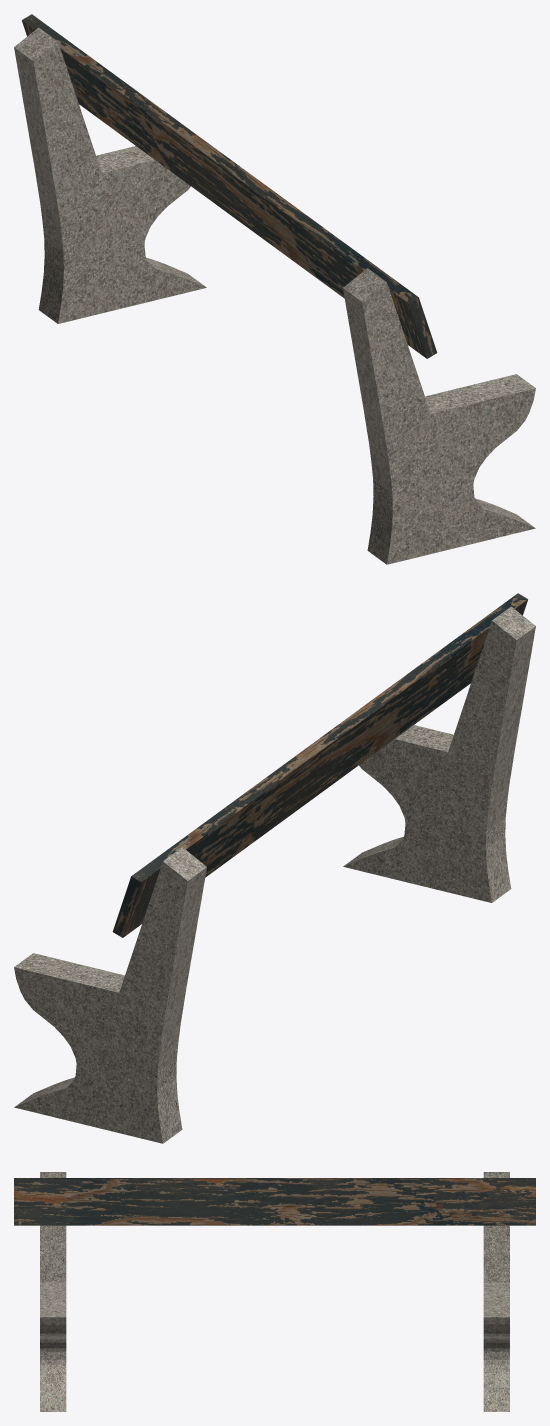
The model's file is Lavicka_Beton_Stara_Special_001.fbx.
3 views of the same model, one above another, from view 1: azimuth 30°, elevation 25°; view 2: azimuth 150°, elevation 25°; view 3: azimuth 270°, elevation 25° (orthographic). The views are drawn at different scales.
Parts seen in each view (by area): view 1: Lavicka_Beton_Stara_Special_001; view 2: Lavicka_Beton_Stara_Special_001; view 3: Lavicka_Beton_Stara_Special_001.
Boxes of the visible parts, x1,y1,x2,y2 form: Lavicka_Beton_Stara_Special_001: [14, 14, 535, 564]; Lavicka_Beton_Stara_Special_001: [14, 593, 535, 1143]; Lavicka_Beton_Stara_Special_001: [14, 1172, 535, 1411].
Bounding box in the file's own units: 51.87 × 80.59 × 200.
